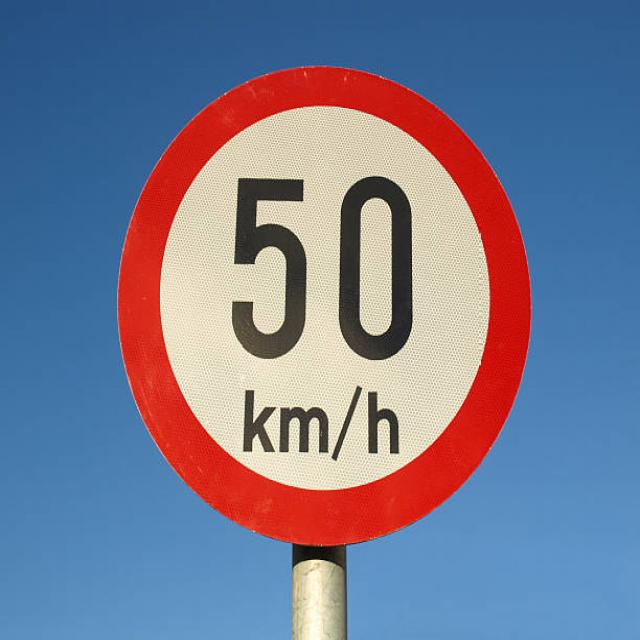speed_limit_50: (109, 48, 538, 560)
